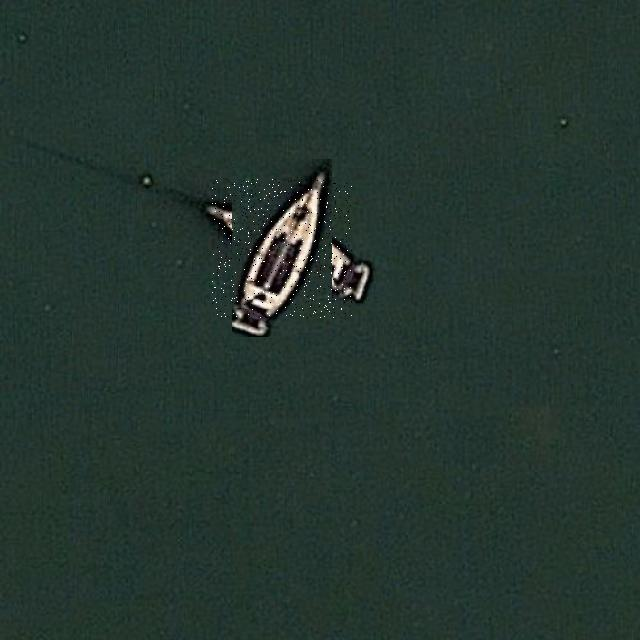boat: (212, 179, 352, 318)
